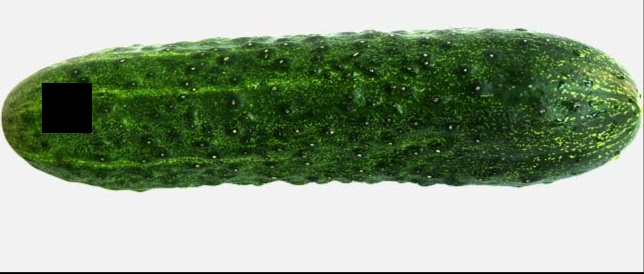cucumber: (2, 26, 642, 189)
